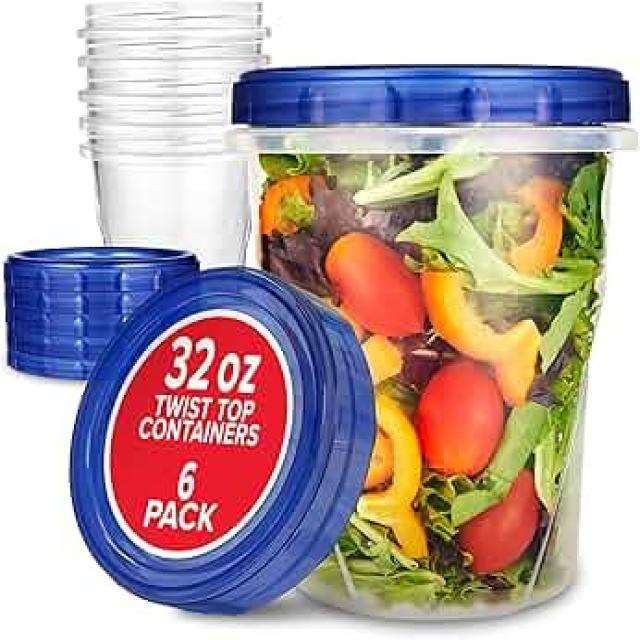plastic_box: (180, 40, 638, 635)
